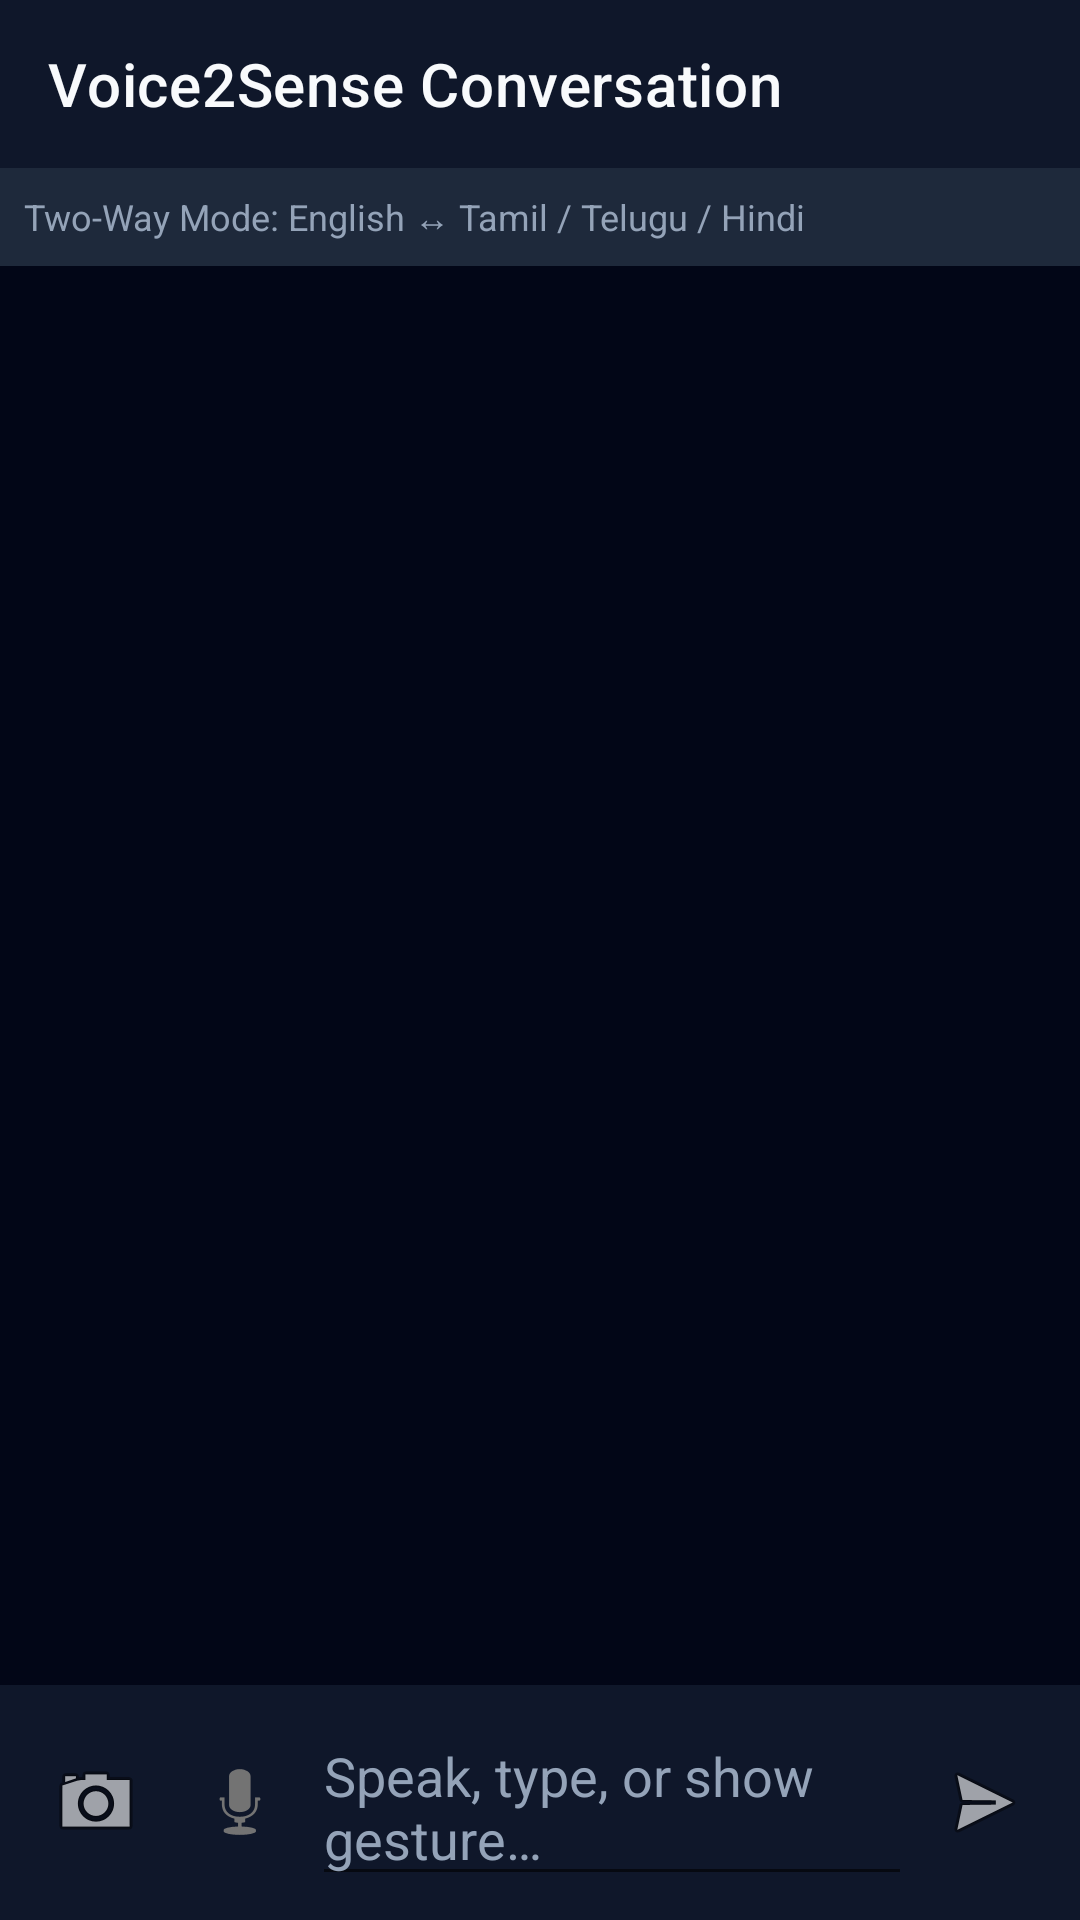

Named icons in this screenshot (1080w x 1920h) and their bounding boxes, (x1, y1, x2, y2):
Gesture Camera: (62, 1774, 130, 1827)
Send: (957, 1775, 1013, 1830)
Voice Input: (219, 1769, 261, 1835)
